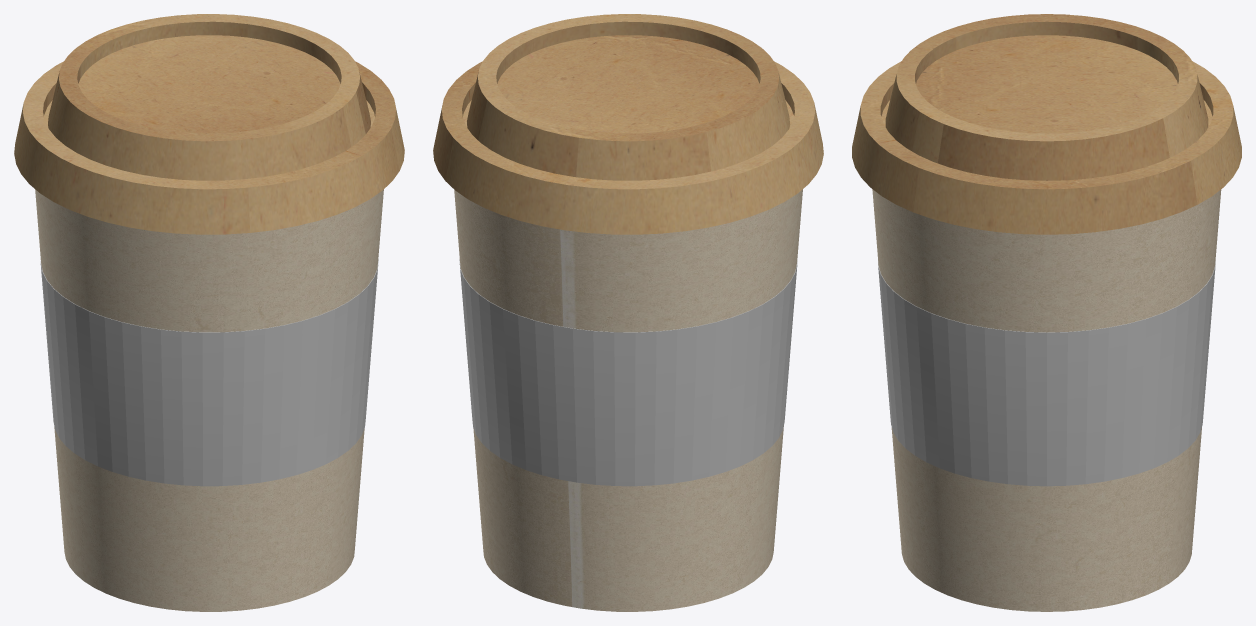
File: PerfectCupSketchfab2.fbx
3 views of the same model, side by side, from view 1: azimuth 30°, elevation 25°; view 2: azimuth 150°, elevation 25°; view 3: azimuth 270°, elevation 25° (orthographic).
Parts seen in each view (by area): view 1: Cup, Lid, Label; view 2: Cup, Lid, Label; view 3: Cup, Lid, Label.
Part boxes in pixels (x1=…): Cup: x1=35, y1=189, x2=383, y2=611; Lid: x1=14, y1=14, x2=404, y2=234; Label: x1=40, y1=259, x2=378, y2=486; Cup: x1=454, y1=189, x2=802, y2=611; Lid: x1=433, y1=14, x2=823, y2=234; Label: x1=459, y1=259, x2=797, y2=486; Cup: x1=872, y1=189, x2=1221, y2=611; Lid: x1=852, y1=14, x2=1241, y2=234; Label: x1=878, y1=261, x2=1215, y2=486.
Bounding box in the file's own units: 55.06 × 73.53 × 54.95.
